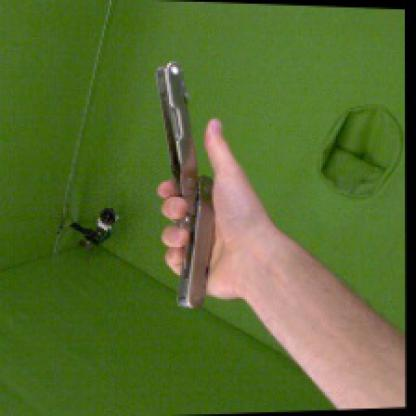Hand: (157, 118, 269, 300)
